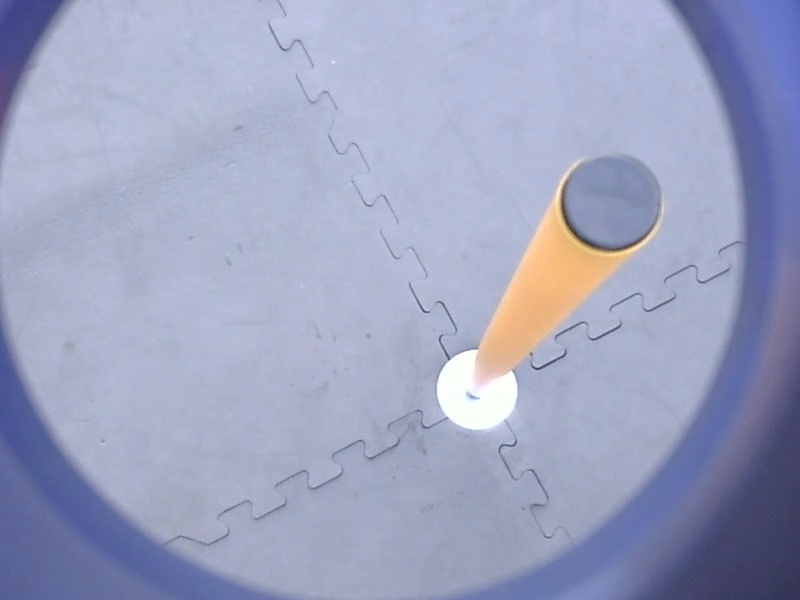tip: (551, 144, 671, 259)
